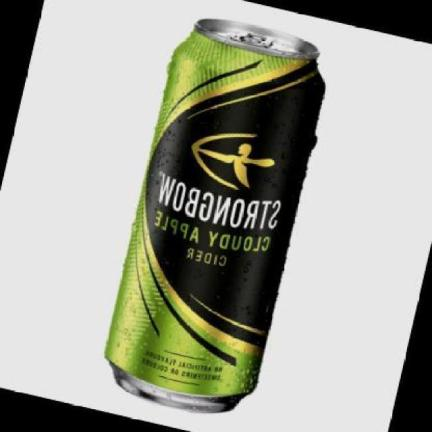can: (105, 19, 324, 411)
